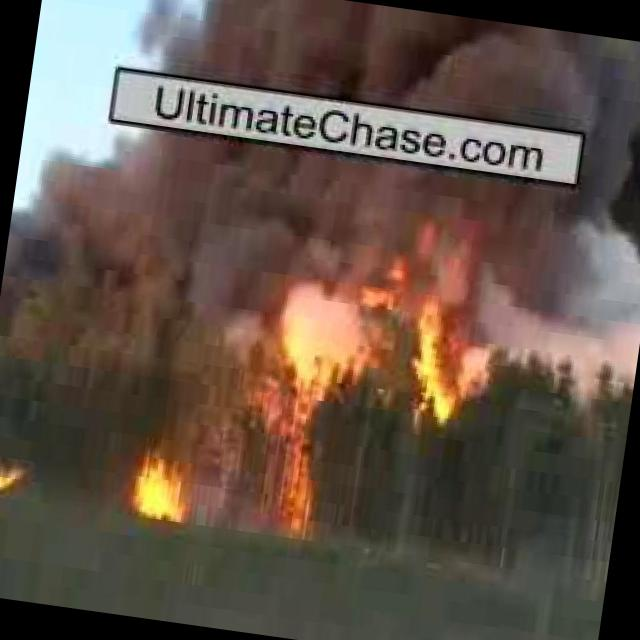Fire: (384, 252, 506, 428), (250, 388, 346, 543), (134, 456, 195, 528), (0, 457, 27, 501)
Smoke: (4, 111, 640, 392), (140, 0, 640, 137)
